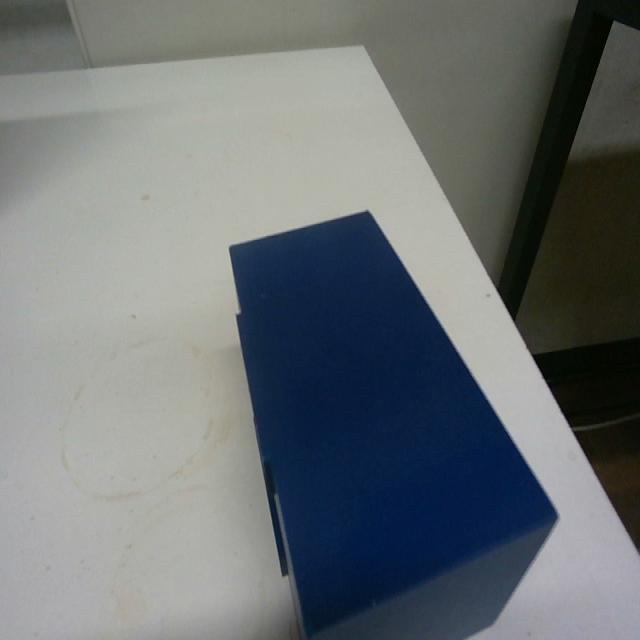Blue Cuboid: (226, 205, 559, 638)
